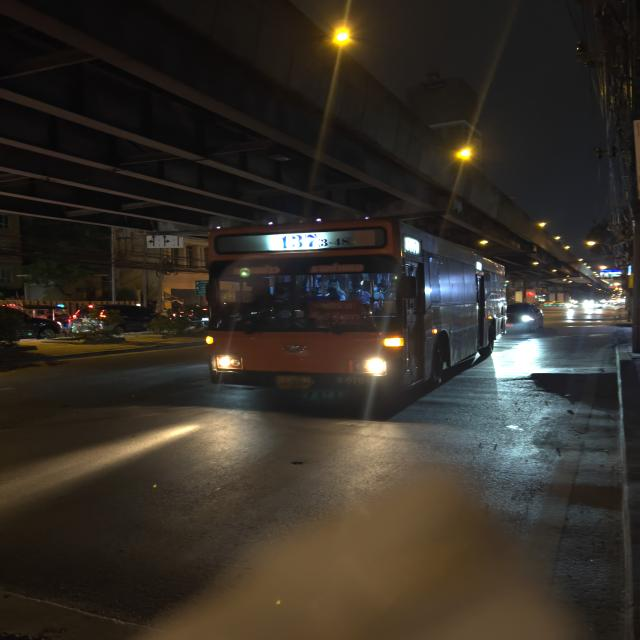BMTA-bus: (203, 218, 507, 415)
Bus-Line-Number: (280, 229, 354, 254)
Destination-Sign-Extra-Bus: (308, 300, 362, 325)
